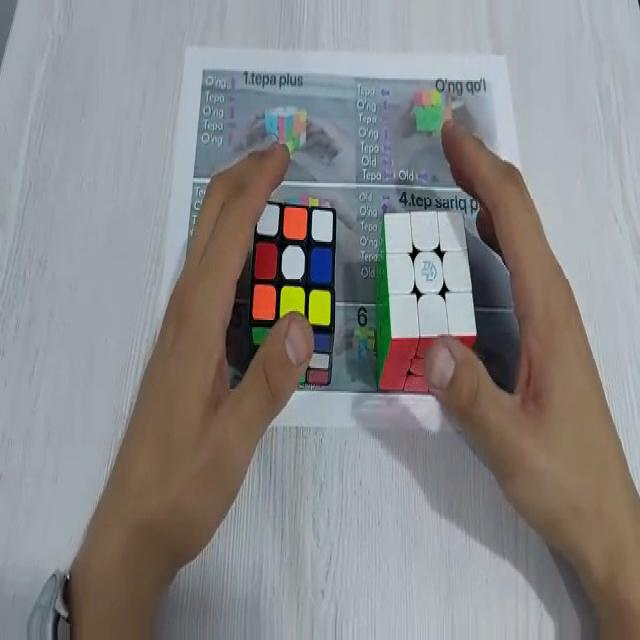Rub: (371, 209, 482, 391), (255, 202, 338, 386)
